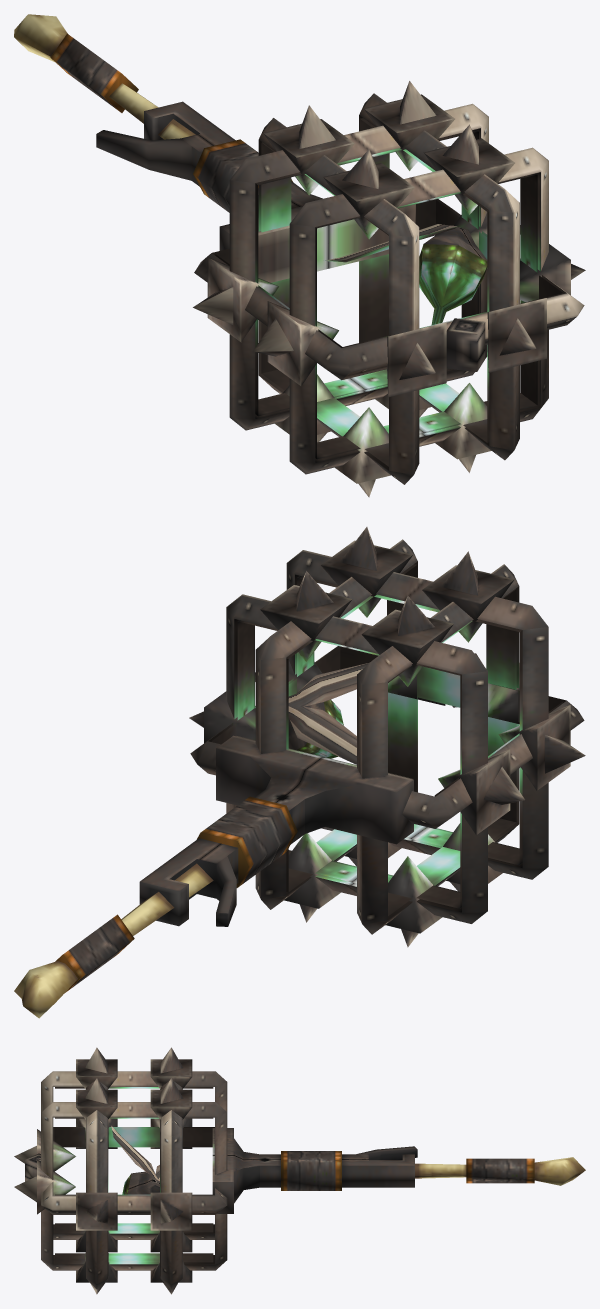
The model's file is we043_amh.OBJ.
The picture shows the model from 3 angles, top to bottom: view 1: azimuth 30°, elevation 25°; view 2: azimuth 150°, elevation 25°; view 3: azimuth 270°, elevation 25°; orthographic projection. The views are drawn at different scales.
Visible parts, largest first — view 1: mesh_0, mesh_1; view 2: mesh_0, mesh_1; view 3: mesh_0, mesh_1.
Part boxes in pixels (<box>): mesh_0: <box>14,14,585,497</box>; mesh_1: <box>215,118,563,466</box>; mesh_0: <box>14,527,585,1018</box>; mesh_1: <box>211,564,563,915</box>; mesh_0: <box>14,1047,585,1294</box>; mesh_1: <box>55,1087,213,1276</box>.
Bounding box in the file's own units: 85.83 × 85.83 × 205.
3 materials, 3 textured.
